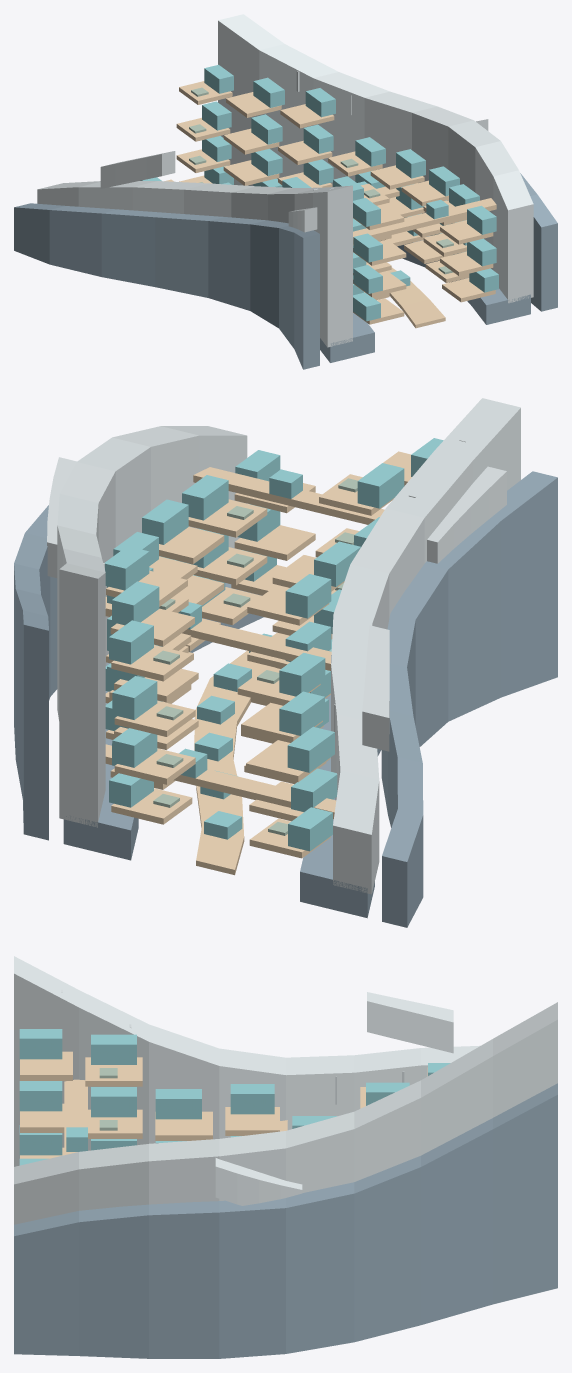
3 renders of one model, top to bottom at view 1: azimuth 30°, elevation 25°; view 2: azimuth 150°, elevation 25°; view 3: azimuth 270°, elevation 25°, orthographic. The views are drawn at different scales.
Size of the model in its own units: 320 by 155 by 302.
